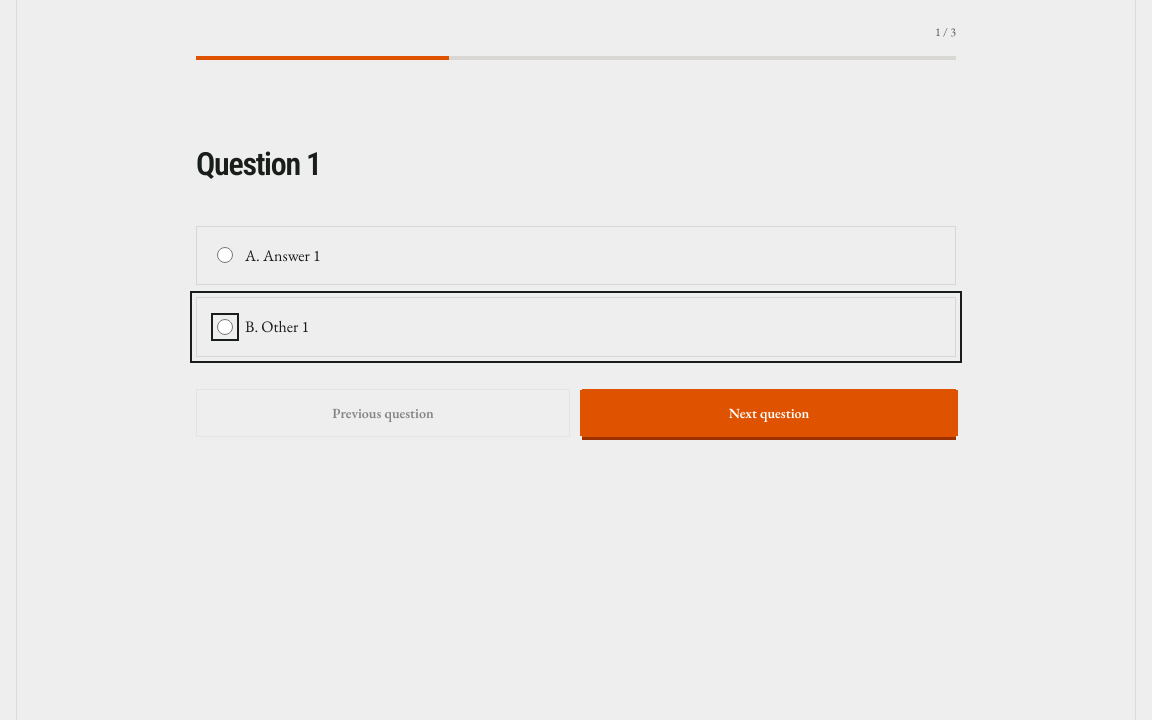
Test: names each native answer group from its current prompt and focuses explicit navigation
Expected: the heading "Question 1" is shown, [196, 145, 321, 183]
What coordinates should you click on to do the following:
click the radio button labelled "B. Other 1"
I would click on:
 (225, 327)
Its box is [217, 319, 233, 335].
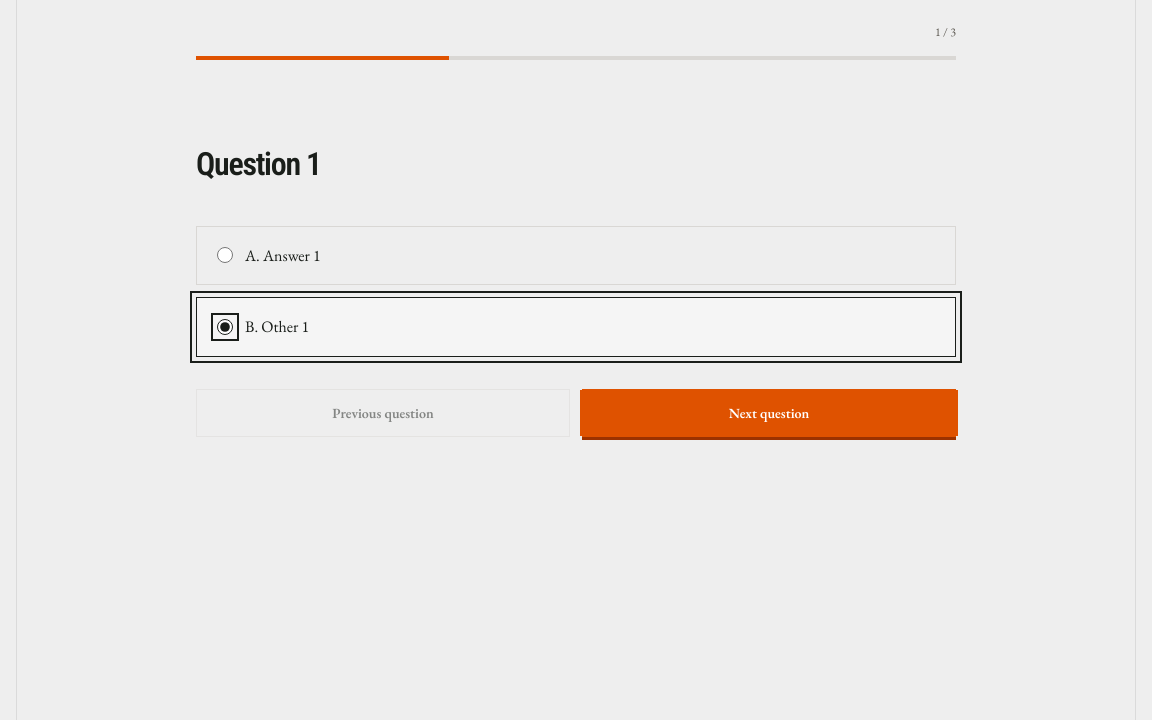
Expected: the radio button labelled "B. Other 1" is checked, [217, 319, 233, 335]
What coordinates should you click on to do the following:
click the button "Next question"
I would click on:
 (769, 413)
Its box is [582, 389, 956, 437].
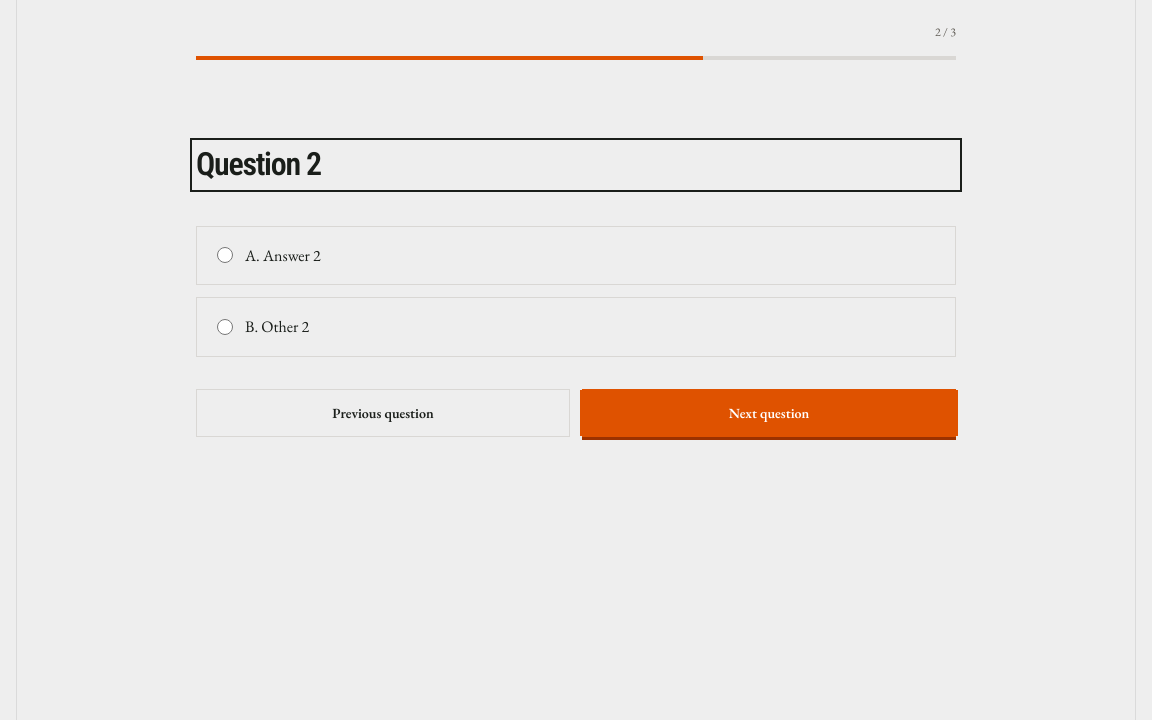
What coordinates should you click on to do the following:
click the button "Previous question"
I would click on:
 (383, 413)
Its box is [196, 389, 570, 437].
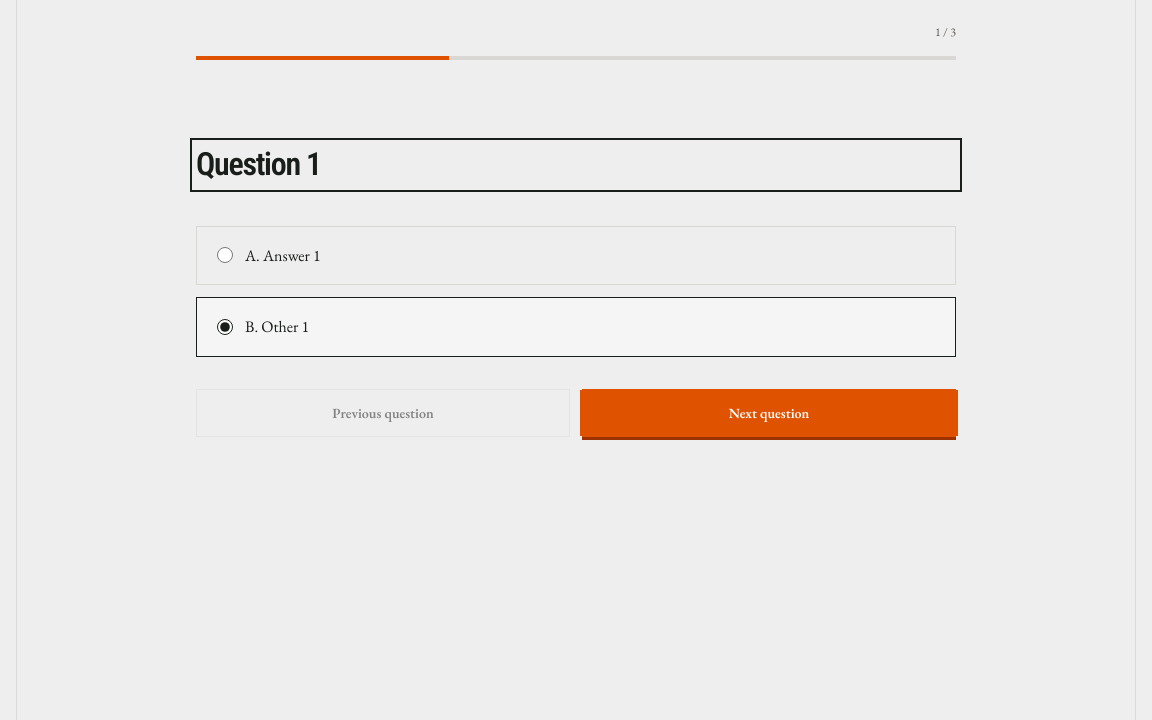
Expected: the radio button labelled "B. Other 1" is checked, [217, 319, 233, 335]
